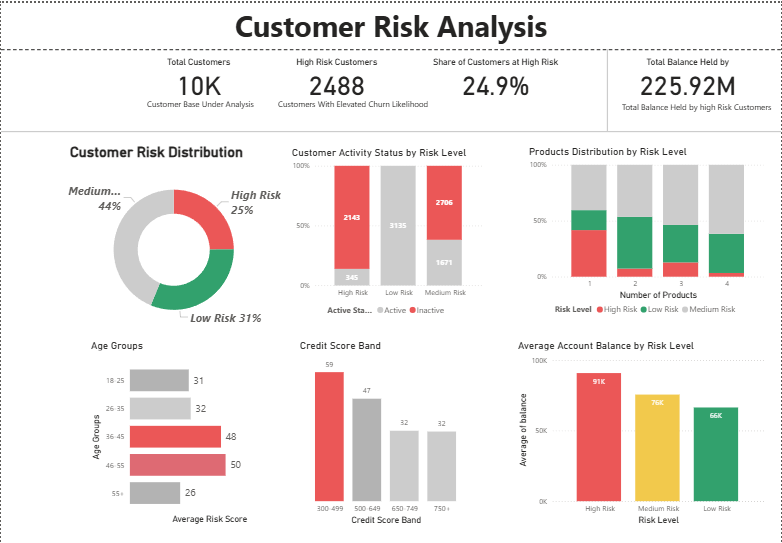

What the dashboard file says about the page in this screenshot:
{"tool":"powerbi","page":{"name":"Customer Risk Analysis","canvas":[1300,900],"ordinal":0},"visuals":[{"type":"group","id":"g1","title":"Group 1","box":[110,235.7,355.7,325.7],"z":0},{"type":"donutChart","title":"Customer Risk Distribution","fields":{"Category":["Bank Customer Churn Prediction.Risk Level"],"Y":["Bank Customer Churn Prediction.Total Customers"]},"box":[110,235.7,355.7,325.7],"z":0,"group":"g1"},{"type":"hundredPercentStackedColumnChart","title":"Customer Activity Status by Risk Level","fields":{"Category":["Bank Customer Churn Prediction.Risk Level"],"Series":["Bank Customer Churn Prediction.Active Status"],"Y":["Bank Customer Churn Prediction.Total Customers"]},"box":[479.3,237.7,327,292],"z":1000},{"type":"hundredPercentStackedColumnChart","title":"Products Distribution by Risk Level","fields":{"Category":["Bank Customer Churn Prediction.products_number"],"Series":["Bank Customer Churn Prediction.Risk Level"],"Y":["Bank Customer Churn Prediction.Total Customers"]},"box":[875.7,237.1,401.4,292.9],"z":3000},{"type":"card","title":"High Risk Customers","fields":{"Values":["Bank Customer Churn Prediction.High Risk Customers"]},"box":[426.7,90,265.7,70],"z":3003,"group":"g3"},{"type":"card","title":"Share of Customers at High Risk","fields":{"Values":["Bank Customer Churn Prediction.High Risk %"]},"box":[691.7,90,265,70],"z":3004},{"type":"card","title":"Total Balance Held by ","fields":{"Values":["Bank Customer Churn Prediction.Avg Balance (High Risk)"]},"box":[1011.4,90.5,265.7,70],"z":3005,"group":"g4"},{"type":"barChart","title":"Age Groups","fields":{"Category":["Bank Customer Churn Prediction.Age Groups"],"Y":["Bank Customer Churn Prediction.Average Risk Score"]},"box":[144.3,560.7,341,314],"z":3006},{"type":"columnChart","title":"Credit Score Band","fields":{"Category":["Bank Customer Churn Prediction.Credit Score Band"],"Y":["Bank Customer Churn Prediction.Average Risk Score"]},"box":[492.9,560.4,297.1,314.3],"z":3007},{"type":"columnChart","title":"Average Account Balance by Risk Level","fields":{"Y":["Avg(Bank Customer Churn Prediction.balance)"],"Category":["Bank Customer Churn Prediction.Risk Level"]},"box":[857.1,560,420,314.3],"z":3008},{"type":"card","title":"Total Customers","fields":{"Values":["Bank Customer Churn Prediction.Total Customers"]},"box":[197.1,90.5,265.7,70],"z":3009,"group":"g2"},{"type":"textbox","box":[238.5,154.8,208.6,34.3],"z":3010,"group":"g2"},{"type":"textbox","box":[457,154.3,262.9,34.3],"z":3011,"group":"g3"},{"type":"group","id":"g2","title":"Group 2","box":[197.1,90.5,265.7,98.6],"z":3012},{"type":"group","id":"g3","title":"Group 3","box":[426.7,90,293.3,98.3],"z":3013},{"type":"textbox","box":[1030,160.5,341.4,35.7],"z":3014,"group":"g4"},{"type":"group","id":"g4","title":"Group 6","box":[1011.4,90.5,360,105.7],"z":3017},{"type":"shape","box":[0,184.3,1400,58.6],"z":3018},{"type":"shape","box":[0,77.1,1400,58.6],"z":3019},{"type":"shape","box":[840,77.1,341.4,137.1],"z":3020},{"type":"textbox","box":[0,0,1300,77.1],"z":3021}]}

Visuals, with their boxes in screenshot pixels (x1, y1, x2, y2), scaled from the page's 1300x900 canvas onto the 782x543 screenshot:
"Group 1" group: bbox=[66, 142, 280, 339]
"Customer Risk Distribution" donutChart: bbox=[66, 142, 280, 339]
"Customer Activity Status by Risk Level" hundredPercentStackedColumnChart: bbox=[288, 143, 485, 320]
"Products Distribution by Risk Level" hundredPercentStackedColumnChart: bbox=[527, 143, 768, 320]
"High Risk Customers" card: bbox=[257, 54, 417, 97]
"Share of Customers at High Risk" card: bbox=[416, 54, 575, 97]
"Total Balance Held by " card: bbox=[608, 55, 768, 97]
"Age Groups" barChart: bbox=[87, 338, 292, 528]
"Credit Score Band" columnChart: bbox=[296, 338, 475, 528]
"Average Account Balance by Risk Level" columnChart: bbox=[516, 338, 768, 527]
"Total Customers" card: bbox=[119, 55, 278, 97]
textbox: bbox=[143, 93, 269, 114]
textbox: bbox=[275, 93, 433, 114]
"Group 2" group: bbox=[119, 55, 278, 114]
"Group 3" group: bbox=[257, 54, 433, 114]
textbox: bbox=[620, 97, 781, 118]
"Group 6" group: bbox=[608, 55, 781, 118]
shape: bbox=[0, 111, 781, 147]
shape: bbox=[0, 47, 781, 82]
shape: bbox=[505, 47, 711, 129]
textbox: bbox=[0, 0, 781, 47]
